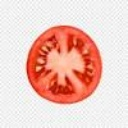tomato: (26, 23, 102, 101)
